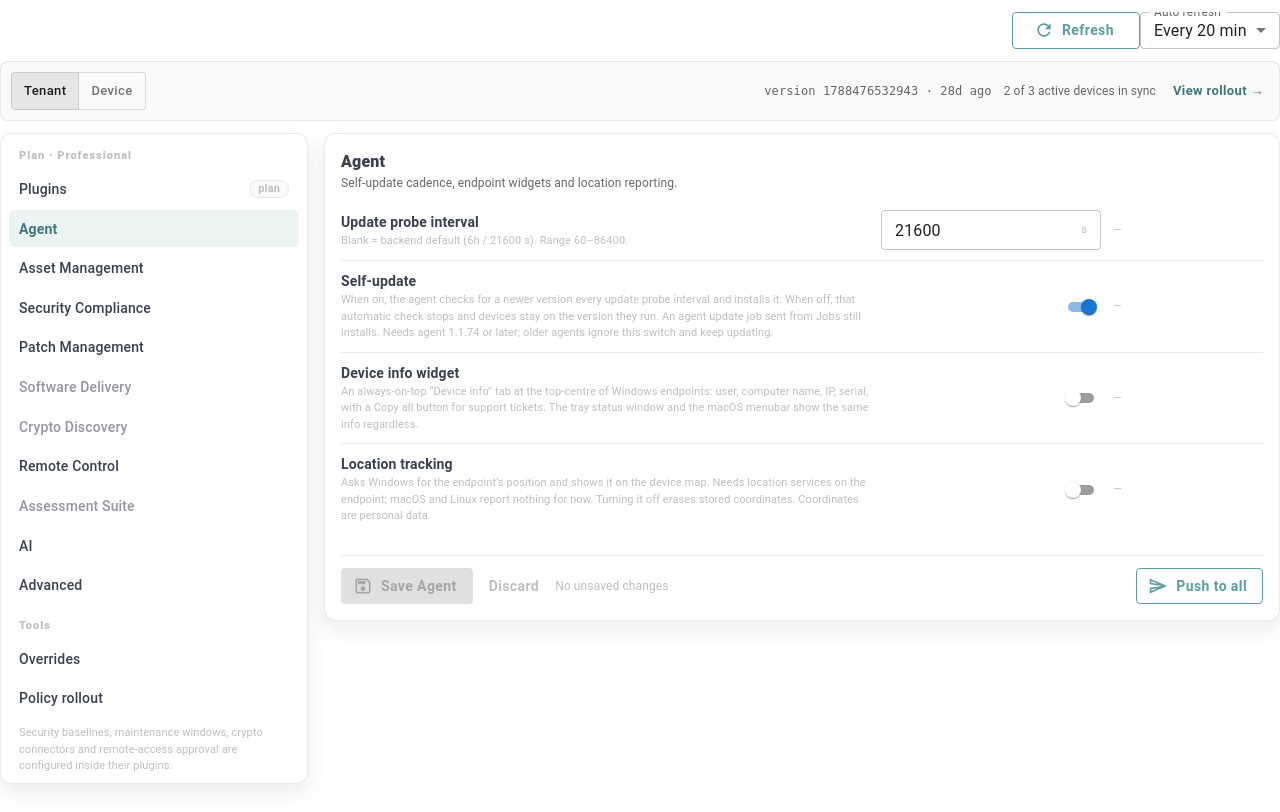
Test: saving the tenant policy › blocks an out-of-range interval
The width and height of the screenshot is (1280, 812).
Replace the text in the number field named "Update probe interval" with "5". click: (979, 230)
box: top-left (881, 210), bottom-right (1077, 250)
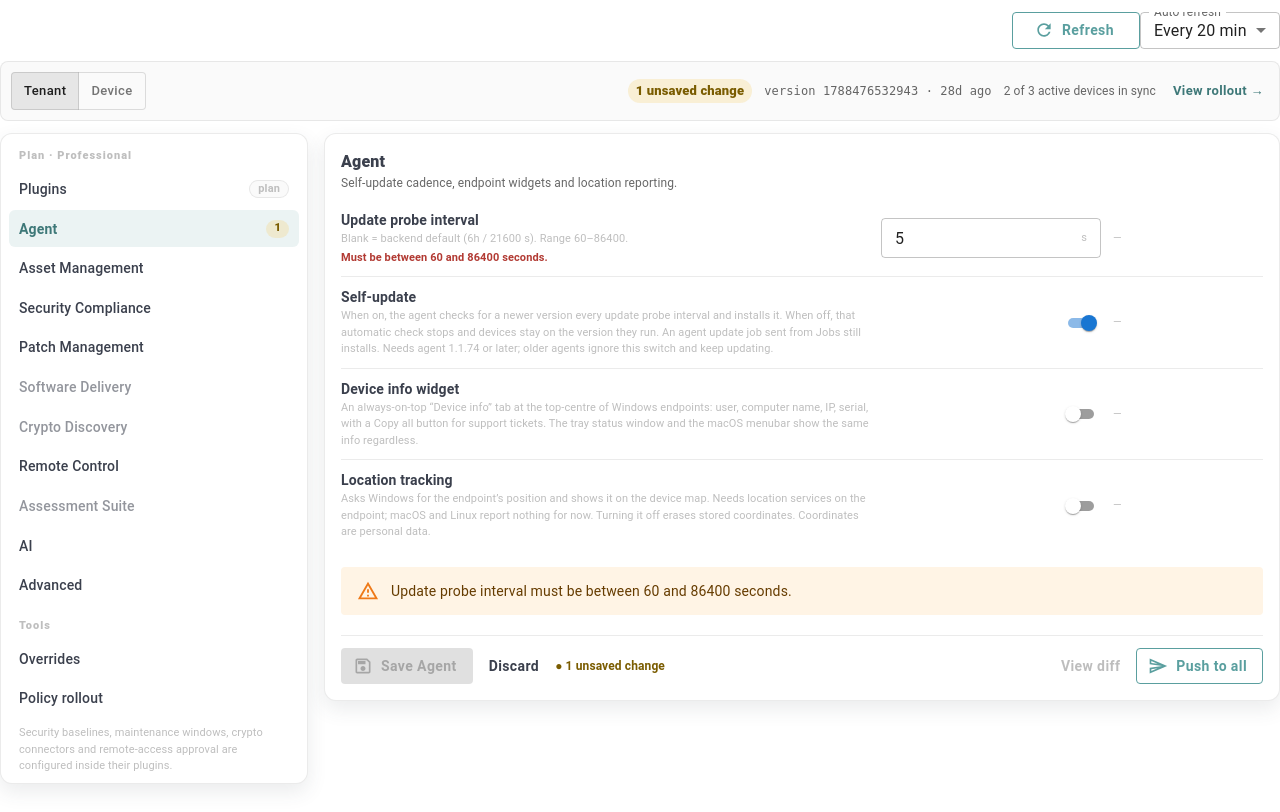
Expected: the button "Save Agent" is disabled, top-left (341, 648), bottom-right (473, 684)
Now the text "1 unsaved change" is shown, box top-left (628, 81), bottom-right (752, 101)
Now the text "Update probe interval must be between 60 and 86400 seconds." is shown, box top-left (391, 581), bottom-right (792, 601)
